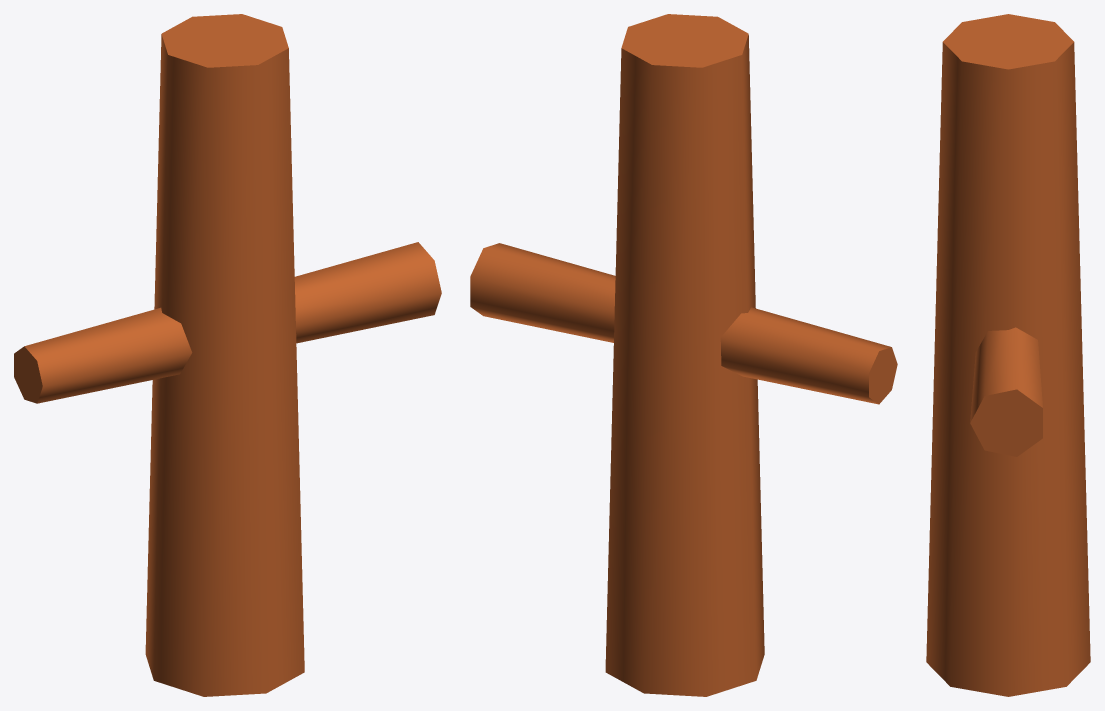
The model's file is cactus_cluster.glb.
3 views of the same model, side by side, from view 1: azimuth 30°, elevation 25°; view 2: azimuth 150°, elevation 25°; view 3: azimuth 270°, elevation 25° (orthographic).
Parts seen in each view (by area): view 1: stem, arm_-1, arm_1; view 2: stem, arm_-1, arm_1; view 3: stem, arm_1.
Part boxes in pixels (left/top/right/bottom): stem: left=145, top=14, right=304, bottom=696; arm_-1: left=14, top=307, right=192, bottom=403; arm_1: left=294, top=242, right=441, bottom=343; stem: left=605, top=14, right=764, bottom=696; arm_-1: left=720, top=307, right=897, bottom=404; arm_1: left=470, top=243, right=615, bottom=342; stem: left=926, top=14, right=1090, bottom=696; arm_1: left=970, top=327, right=1042, bottom=456.
Size of what is drawn, in the model's own units: 1.66 by 2.5 by 0.6.
